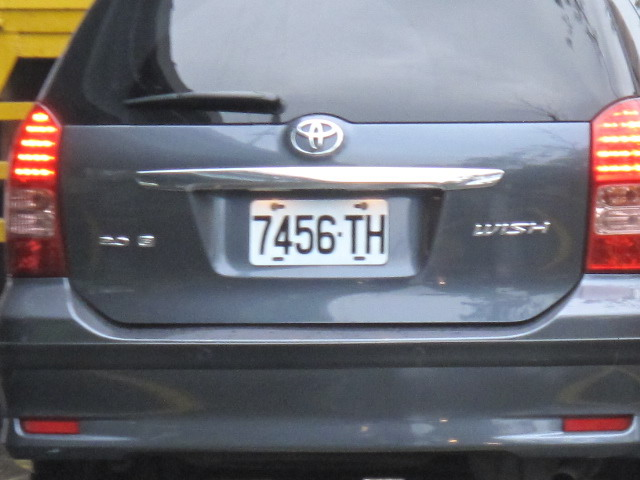plate: (248, 197, 391, 268)
